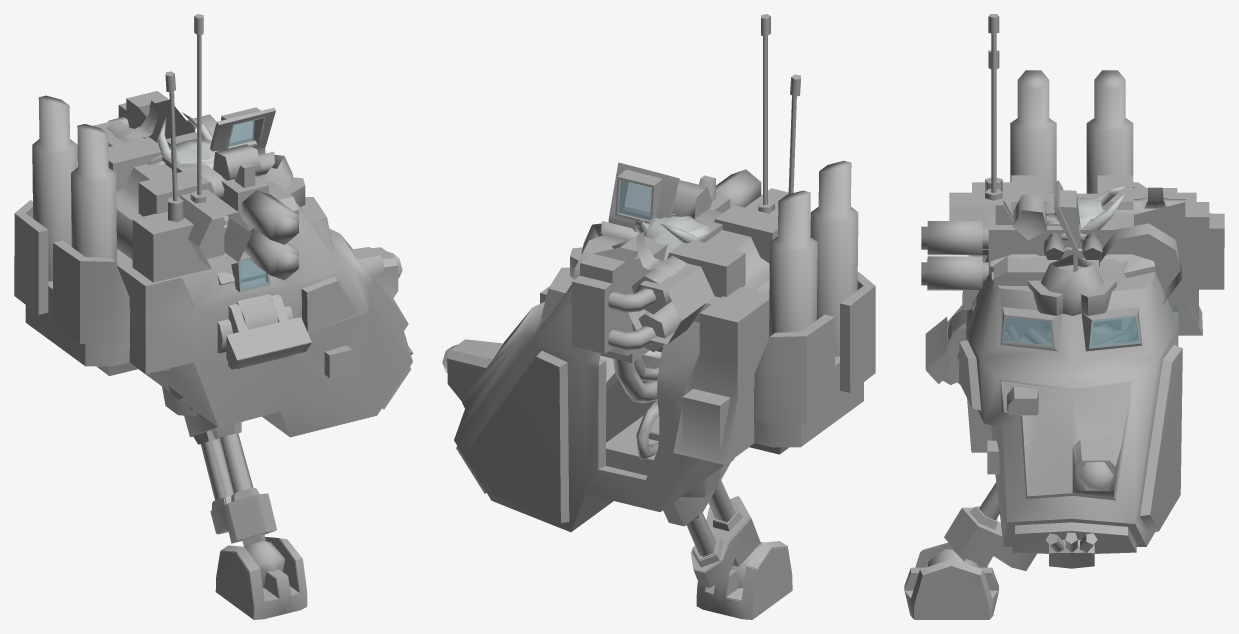
Rendered from bp_sentinel_melta-0fwekgu.glb.
3 views of the same model, side by side, from view 1: azimuth 30°, elevation 25°; view 2: azimuth 150°, elevation 25°; view 3: azimuth 270°, elevation 25° (orthographic). The views are drawn at different scales.
Visible parts, largest first — view 1: turret, turret_interior, body, melta, legr3, legl2, legl3, legl4, legr4, door, legl1, object014 (+1 smaller); view 2: turret, turret_interior, melta, body, legr3, legr4, door, legl3, object014, legl4; view 3: turret, turret_interior, melta, body, legl4, legl3, object014, gun_rot_melta, door, legr2, legl2, legl1.
Part boxes in pixels (bbox=[...]): turret: bbox=[14, 14, 412, 437]; turret_interior: bbox=[14, 96, 412, 435]; body: bbox=[77, 121, 305, 268]; melta: bbox=[106, 91, 298, 280]; legr3: bbox=[190, 421, 275, 587]; legl2: bbox=[168, 294, 310, 409]; legl3: bbox=[184, 412, 284, 571]; legl4: bbox=[221, 537, 307, 619]; legr4: bbox=[215, 537, 306, 619]; door: bbox=[210, 107, 275, 154]; legl1: bbox=[217, 260, 278, 329]; object014: bbox=[157, 112, 219, 168]; turret: bbox=[442, 14, 875, 531]; turret_interior: bbox=[447, 161, 875, 531]; melta: bbox=[571, 169, 761, 403]; body: bbox=[570, 188, 810, 352]; legr3: bbox=[636, 415, 760, 588]; legr4: bbox=[696, 547, 792, 619]; door: bbox=[608, 162, 679, 231]; legl3: bbox=[636, 404, 761, 571]; object014: bbox=[632, 215, 711, 358]; legl4: bbox=[696, 541, 791, 600]; turret: bbox=[959, 14, 1202, 568]; turret_interior: bbox=[959, 70, 1202, 553]; melta: bbox=[921, 187, 1224, 345]; body: bbox=[949, 175, 1196, 326]; legl4: bbox=[904, 542, 998, 619]; legl3: bbox=[928, 482, 1036, 568]; object014: bbox=[1040, 186, 1124, 333]; gun_rot_melta: bbox=[993, 256, 1061, 290]; door: bbox=[1054, 180, 1080, 272]; legr2: bbox=[926, 318, 1010, 384]; legl2: bbox=[925, 305, 1007, 369]; legl1: bbox=[948, 247, 1084, 340].
Size of the model in its own units: 46.98 by 70.9 by 35.97.
